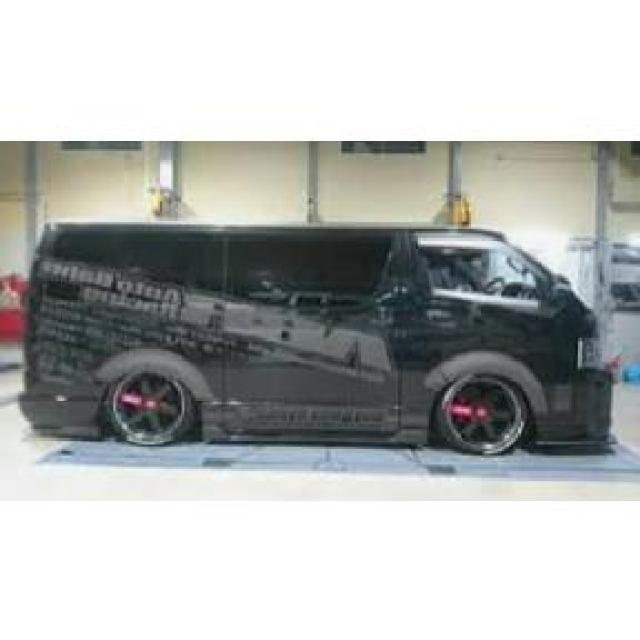Van: (28, 214, 620, 457)
